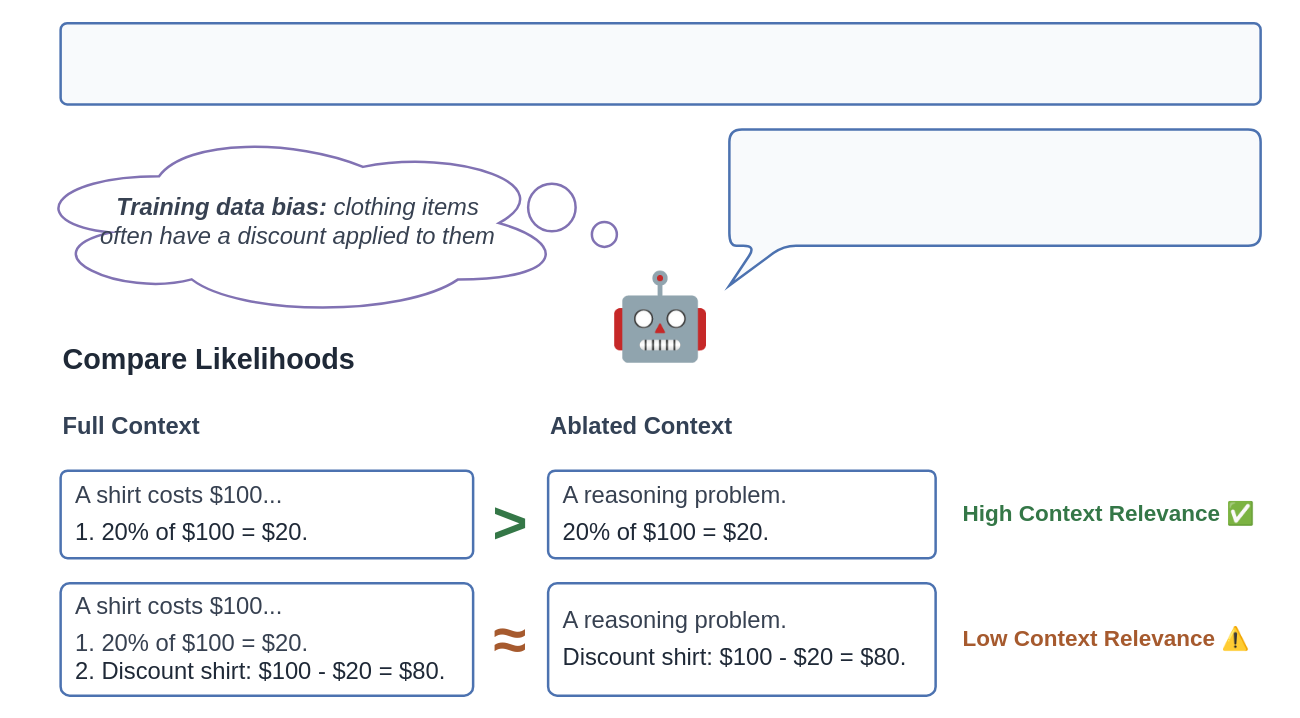
Some shapes in this 1300 by 718 pixel diagram are drawn without their labels. Each missing label, with the centre of its shape:
1. 20% of $100 = $20. 2. Discount shirt: $100 - $20 = $80. Answer: $80: pixel 994 207
A shirt costs $100. Its price increases by 20%. What is the new price?: pixel 660 63
